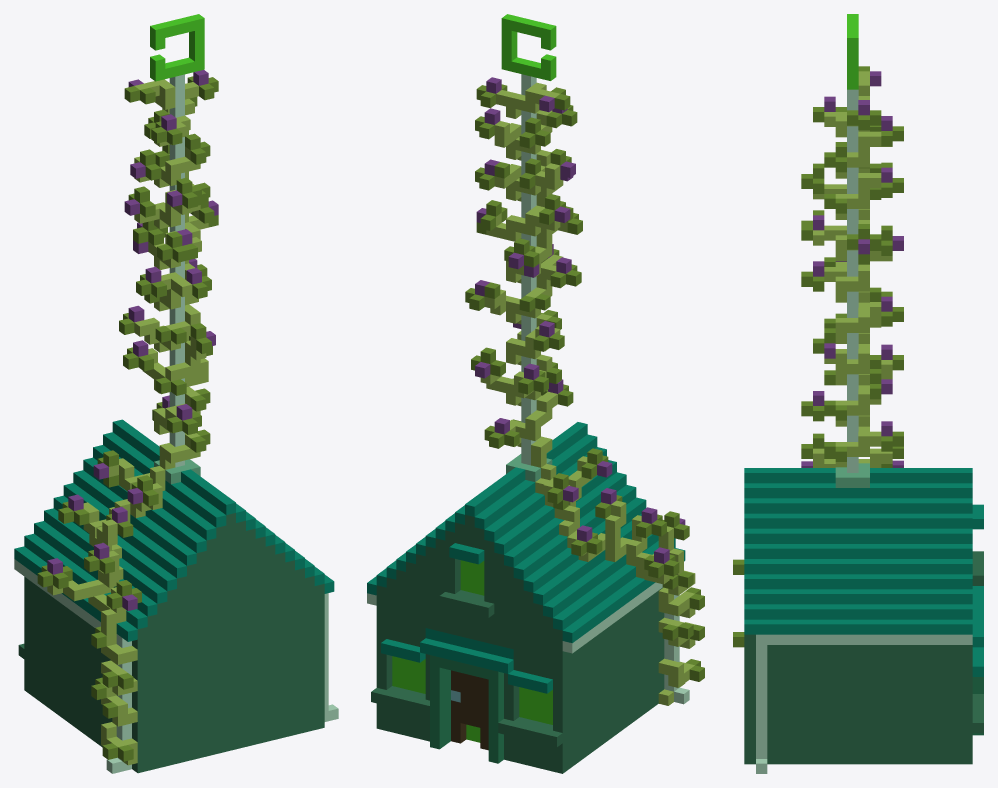
The model's file is CatnipBuilding.obj.
The picture shows the model from 3 angles, left to right: view 1: azimuth 30°, elevation 25°; view 2: azimuth 150°, elevation 25°; view 3: azimuth 270°, elevation 25°; orthographic projection.
Visible parts, largest first — view 1: CatnipBuilding; view 2: CatnipBuilding; view 3: CatnipBuilding.
Boxes of the visible parts, left/top/right/bottom form: CatnipBuilding: left=14, top=14, right=338, bottom=773; CatnipBuilding: left=367, top=14, right=704, bottom=773; CatnipBuilding: left=733, top=14, right=983, bottom=773.
Bounding box in the file's own units: 26 × 67 × 22.
Materials: 1 (1 with a texture image).
